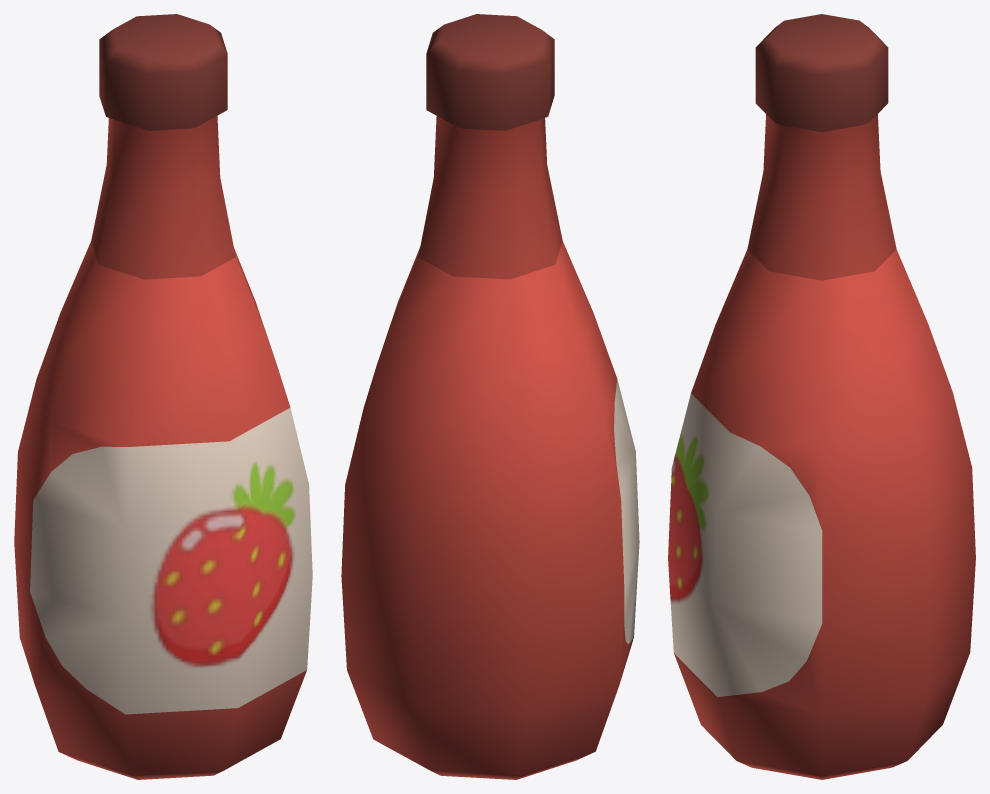
File: Homestead_cm_6.fbx
The picture shows the model from 3 angles, left to right: view 1: azimuth 30°, elevation 25°; view 2: azimuth 150°, elevation 25°; view 3: azimuth 270°, elevation 25°; orthographic projection.
Parts seen in each view (by area): view 1: Homestead_cm_6; view 2: Homestead_cm_6; view 3: Homestead_cm_6.
Part boxes in pixels (left/top/right/bottom): Homestead_cm_6: left=14, top=14, right=312, bottom=779; Homestead_cm_6: left=341, top=14, right=639, bottom=779; Homestead_cm_6: left=668, top=14, right=975, bottom=779.
Size of the model in its own units: 26.21 by 65.87 by 26.21.
